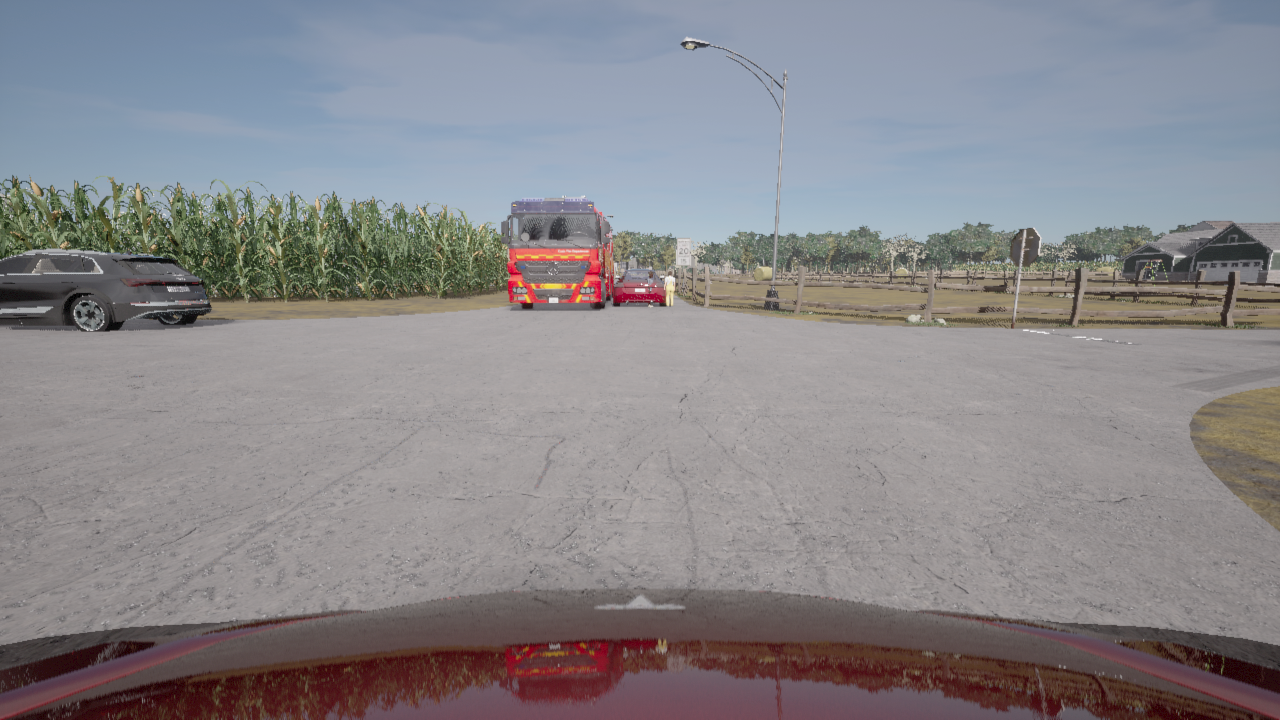cyclist: (0, 588, 1279, 719), (0, 249, 211, 331), (501, 195, 613, 308), (613, 269, 665, 306)
pedestrian: (664, 271, 675, 306), (647, 272, 653, 306)
